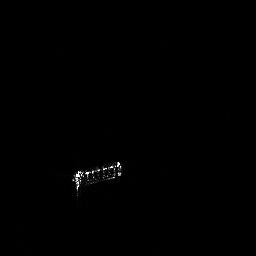ship: (72, 160, 124, 201)
